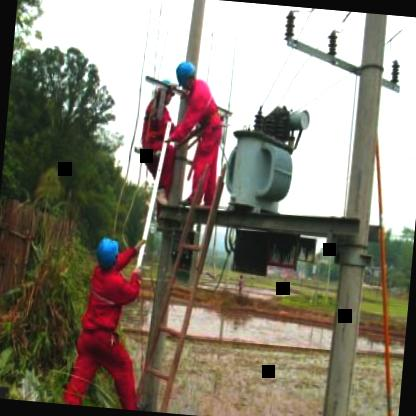helmet: (172, 55, 202, 97), (94, 232, 122, 272)
